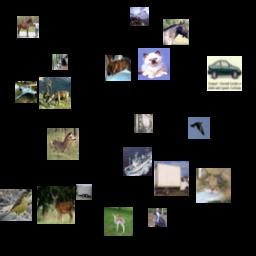airplane: (15, 81, 37, 103), (130, 7, 149, 26)
automobile: (207, 56, 242, 91)
bird: (0, 189, 32, 221), (188, 117, 210, 139), (148, 208, 167, 227)
cat: (196, 168, 231, 203), (138, 48, 170, 80), (52, 54, 68, 70)
deer: (37, 186, 75, 224), (47, 128, 79, 160), (39, 77, 71, 109), (104, 207, 133, 236)
dog: (105, 55, 131, 81)
ship: (123, 147, 152, 176)
truck: (154, 161, 189, 196), (76, 184, 92, 200)
